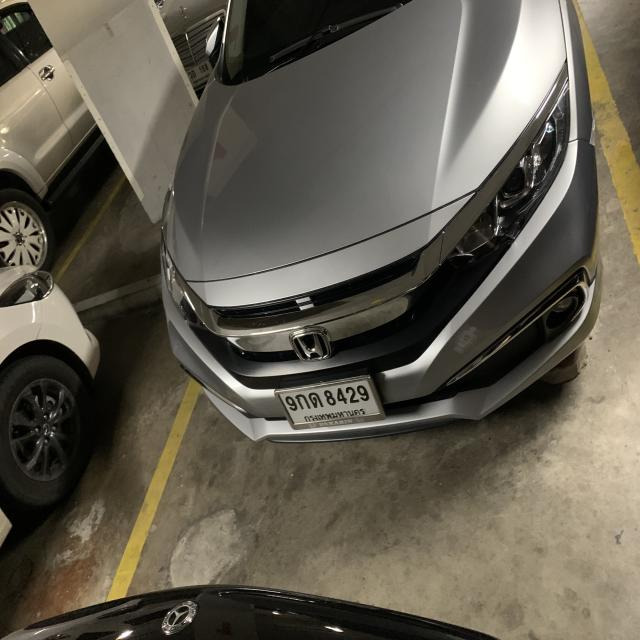license_plate: (274, 372, 384, 434)
